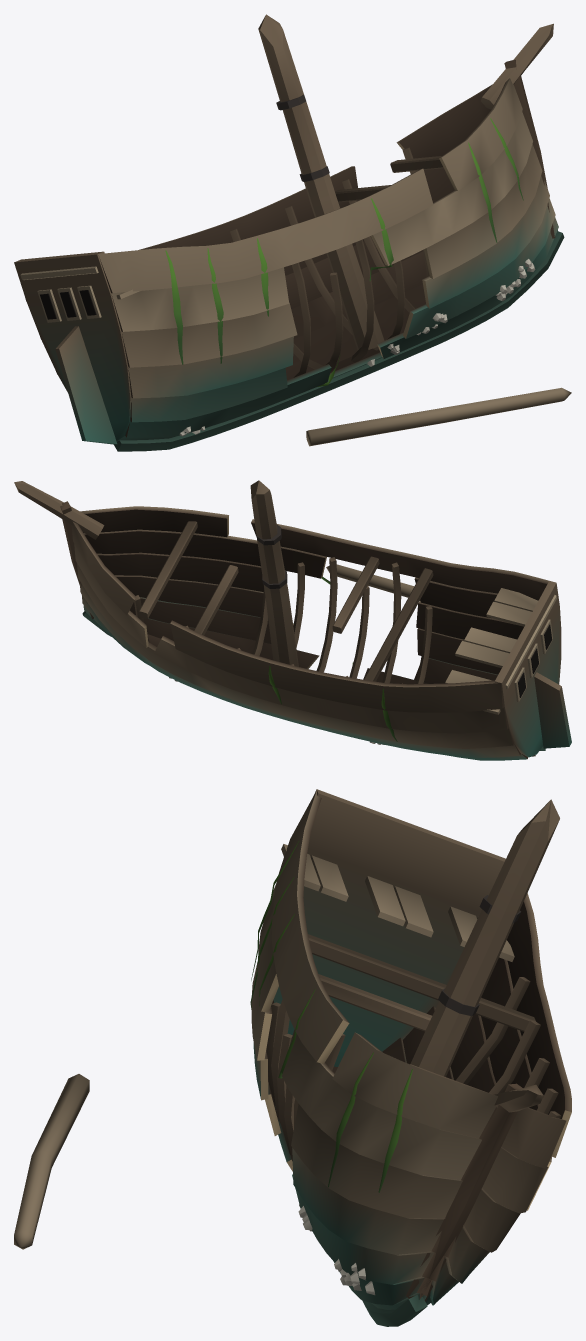
File: shipwreck.glb
3 renders of one model, top to bottom at view 1: azimuth 30°, elevation 25°; view 2: azimuth 150°, elevation 25°; view 3: azimuth 270°, elevation 25°, orthographic. The views are drawn at different scales.
Visible parts, largest first — view 1: shipwreck; view 2: shipwreck; view 3: shipwreck.
Boxes of the visible parts, left/top/right/bottom form: shipwreck: left=14, top=14, right=571, bottom=451; shipwreck: left=14, top=480, right=571, bottom=760; shipwreck: left=14, top=789, right=571, bottom=1326.
Bounding box in the file's own units: 14.42 × 8.01 × 8.98.
